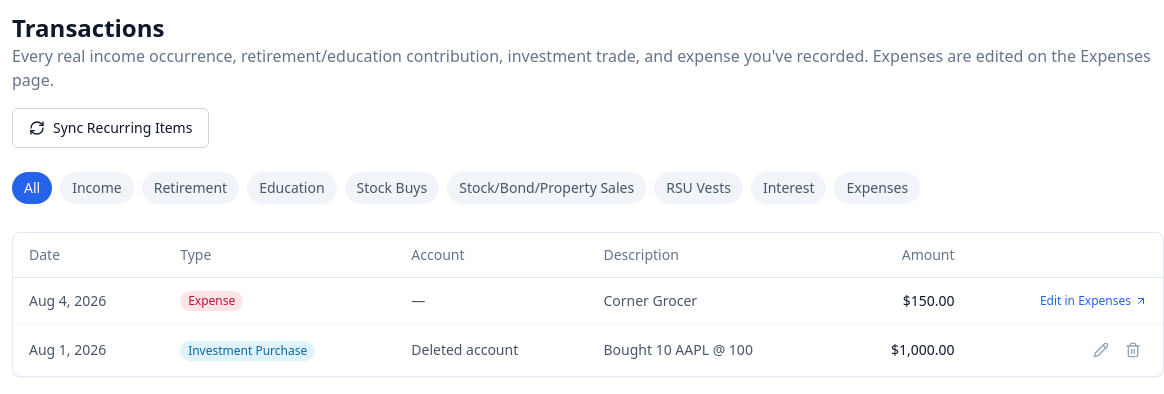
it: TransactionsPage › the Expenses tab filters out real transactions
The image size is (1164, 394).
Expected: the text "Corner Grocer" is shown, [588, 278, 838, 324]
Step 1. Click the button "Expenses" → (877, 188), box [834, 172, 920, 204]
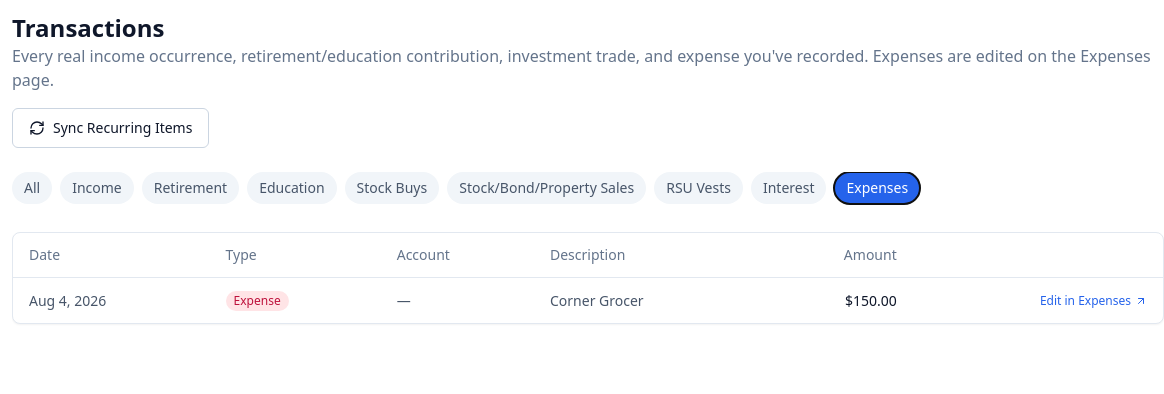
Expected: the text "Corner Grocer" is shown, [534, 278, 760, 323]
Expected: the text "Bought 10 AAPL @ 100" is gone
